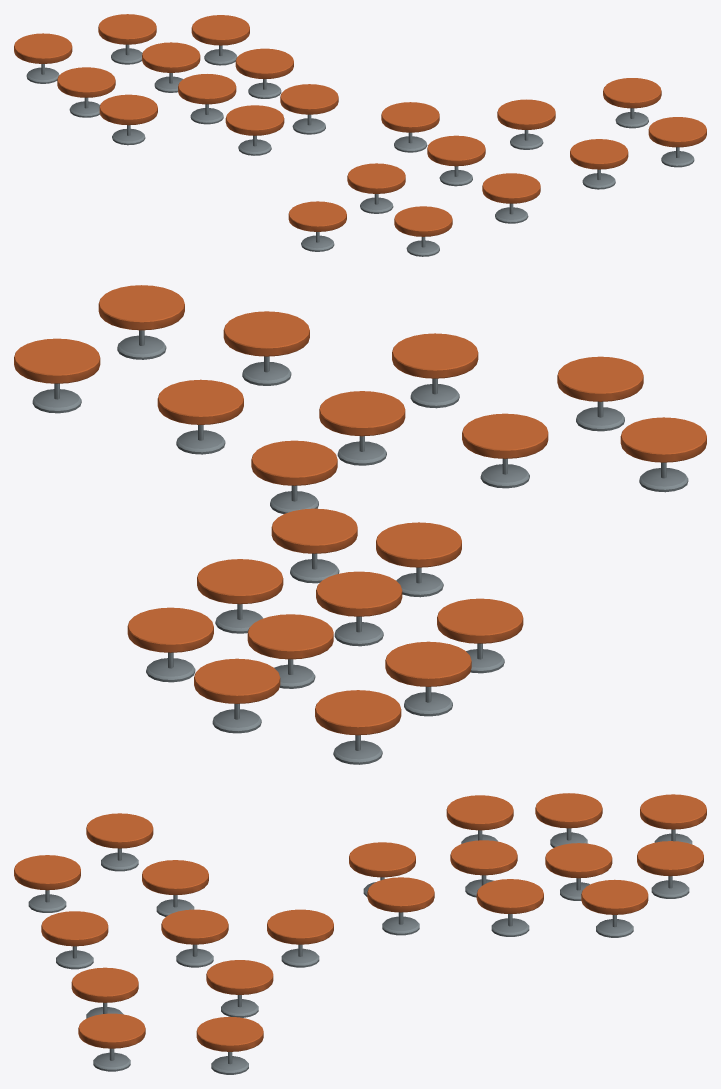
3 views of the same model, one above another, from view 1: azimuth 30°, elevation 25°; view 2: azimuth 150°, elevation 25°; view 3: azimuth 270°, elevation 25° (orthographic). The views are drawn at different scales.
Parts seen in each view (by area): view 1: table.005, table.006, table.019, table.011, table.008, table.009, table.0024, table.004, table.010, table.013, table.002, table.014 (+8 smaller); view 2: table.003, table.004, table.014, table.018, table.013, table.009, table.002, table.015, table.0024, table.008, table.006, table.007 (+8 smaller); view 3: table.011, table.010, table.006, table.002, table.007, table.005, table.012, table.013, table.003, table.004, table.008, table.014 (+8 smaller).
Boxes of the visible parts, bbox=[...] form: table.005: bbox=[381, 102, 439, 152]; table.006: bbox=[482, 173, 540, 223]; table.019: bbox=[225, 105, 284, 155]; table.011: bbox=[280, 84, 338, 134]; table.008: bbox=[394, 206, 452, 256]; table.009: bbox=[347, 163, 405, 213]; table.0024: bbox=[570, 139, 628, 189]; table.004: bbox=[497, 99, 555, 149]; table.010: bbox=[288, 201, 346, 251]; table.013: bbox=[191, 15, 249, 65]; table.002: bbox=[648, 117, 706, 167]; table.014: bbox=[98, 14, 156, 64]; table.003: bbox=[14, 338, 100, 413]; table.004: bbox=[157, 379, 243, 454]; table.014: bbox=[194, 658, 280, 733]; table.018: bbox=[316, 571, 402, 646]; table.013: bbox=[127, 607, 213, 682]; table.009: bbox=[462, 413, 548, 488]; table.002: bbox=[98, 285, 184, 359]; table.015: bbox=[315, 690, 401, 764]; table.0024: bbox=[223, 311, 309, 385]; table.008: bbox=[557, 356, 643, 431]; table.006: bbox=[392, 333, 478, 408]; table.007: bbox=[319, 391, 405, 465]; table.011: bbox=[367, 877, 434, 935]; table.010: bbox=[86, 813, 153, 871]; table.006: bbox=[41, 911, 108, 969]; table.002: bbox=[78, 1013, 145, 1071]; table.007: bbox=[161, 909, 228, 967]; table.005: bbox=[267, 909, 333, 967]; table.012: bbox=[476, 879, 543, 936]; table.013: bbox=[581, 879, 648, 937]; table.003: bbox=[196, 1016, 263, 1074]; table.004: bbox=[206, 960, 273, 1017]; table.008: bbox=[14, 855, 80, 912]; table.014: bbox=[637, 841, 703, 898].
Size of the model in its own units: 4.81 by 0.3213 by 5.59.
Materials: 1 (1 with a texture image).
